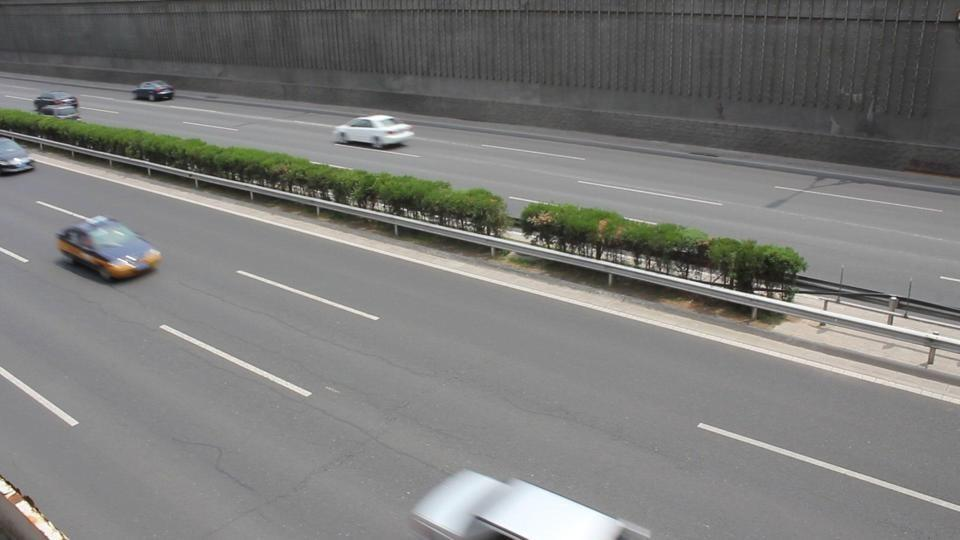car: (54, 216, 162, 281), (332, 114, 415, 149), (32, 90, 80, 118), (0, 138, 35, 175), (131, 79, 175, 102)
